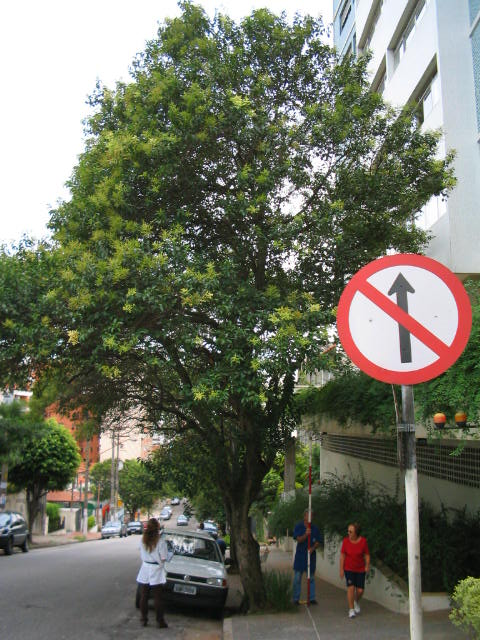crown: (35, 3, 457, 462)
stem: (220, 497, 274, 612)
stick: (301, 453, 316, 606)
tree: (31, 1, 459, 613)
